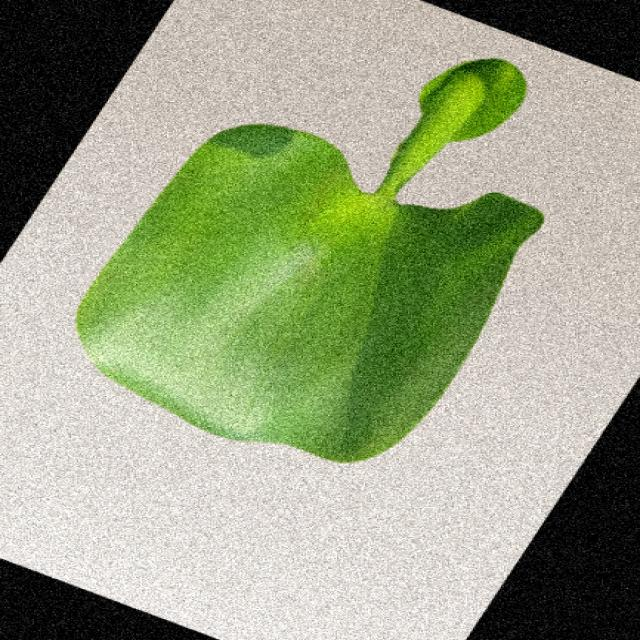daun sehat: (77, 60, 543, 462)
